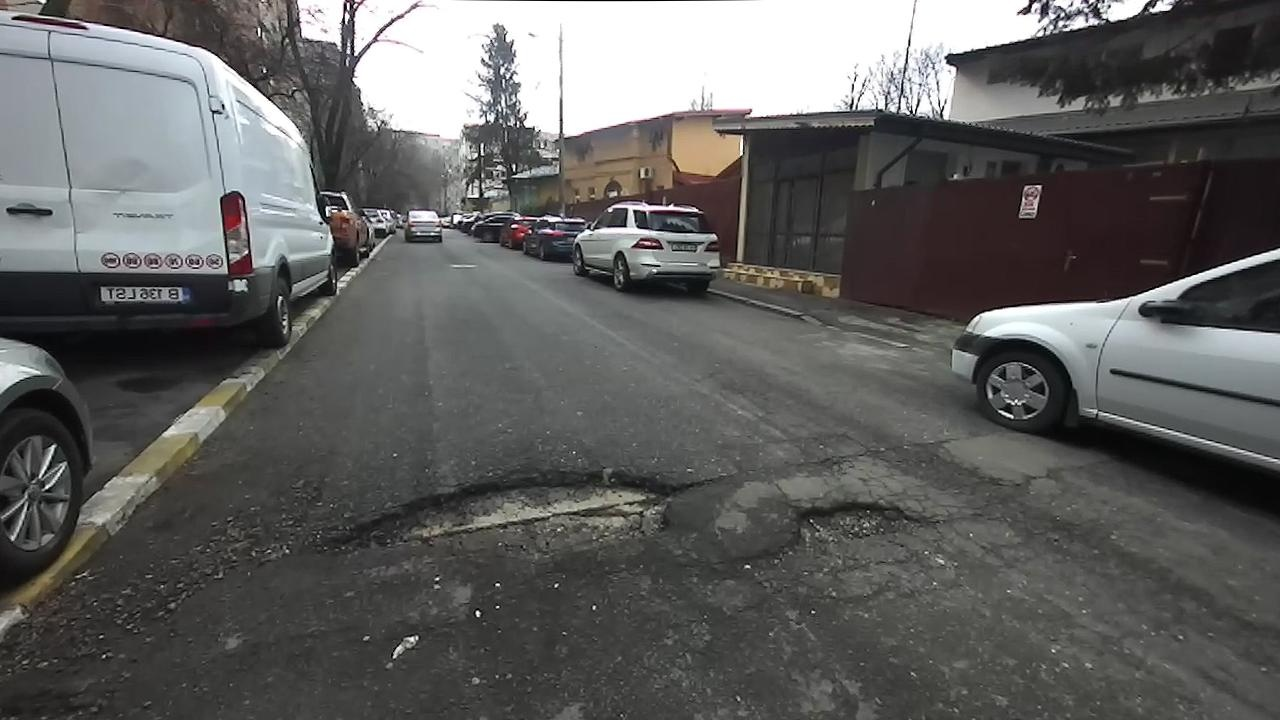pothole: (296, 464, 697, 577), (762, 493, 946, 561)
